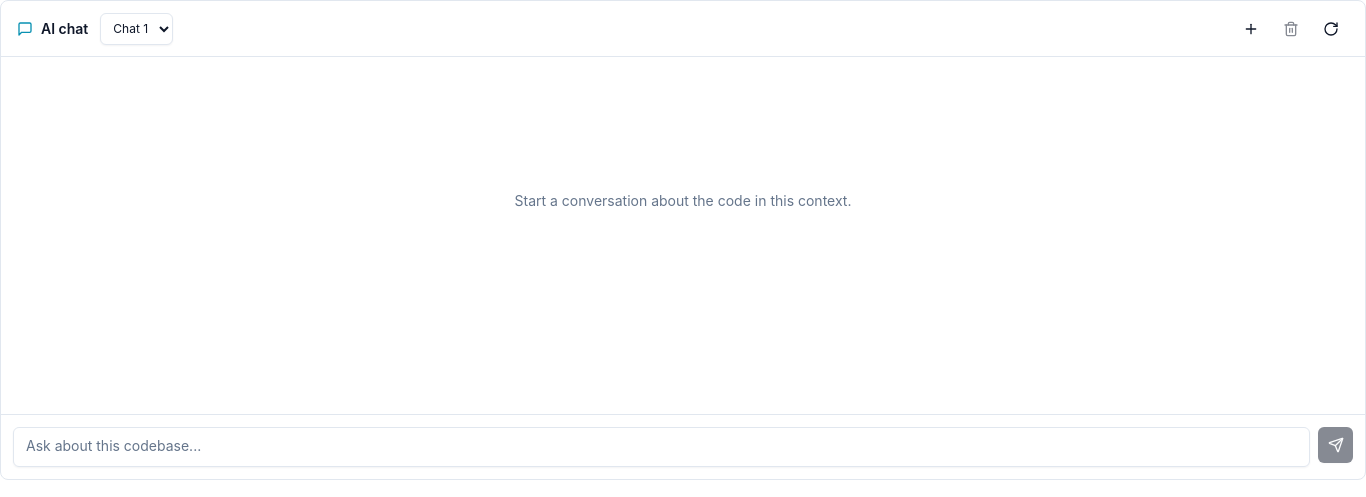
ChatPanel › optimistically sends repo messages and appends replies
expect the text "Start a conversation about the code in this context." is shown: met, box [514, 192, 851, 209]
Type "What is this?" into the text box with placeholder "Ask about this codebase..." at (662, 447), box [13, 427, 1310, 467]
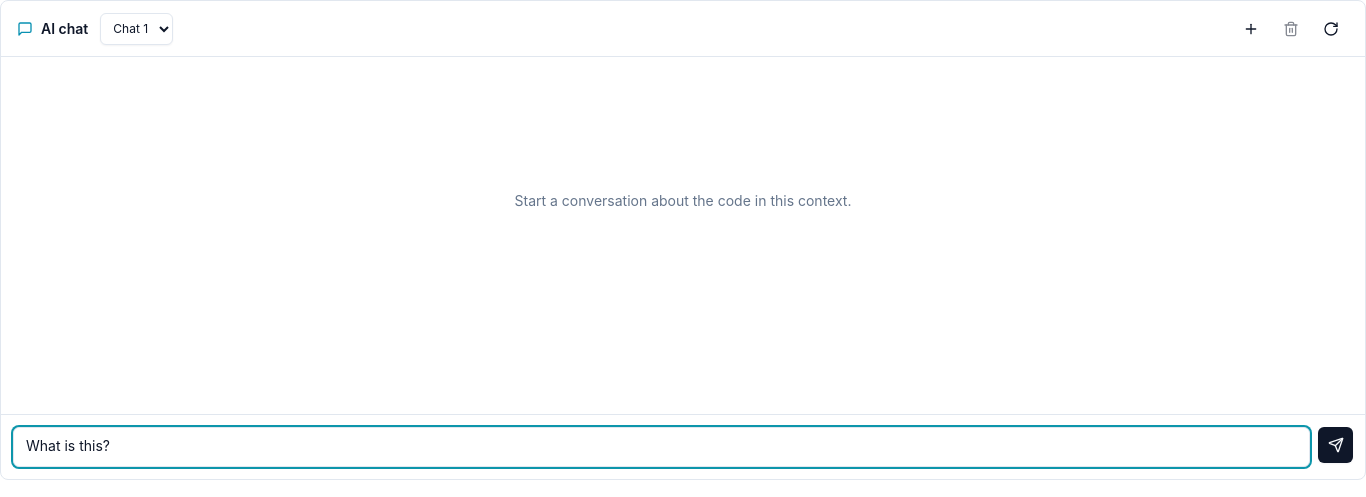
Click the button named "Send message" at (1336, 445), box [1318, 427, 1353, 463]
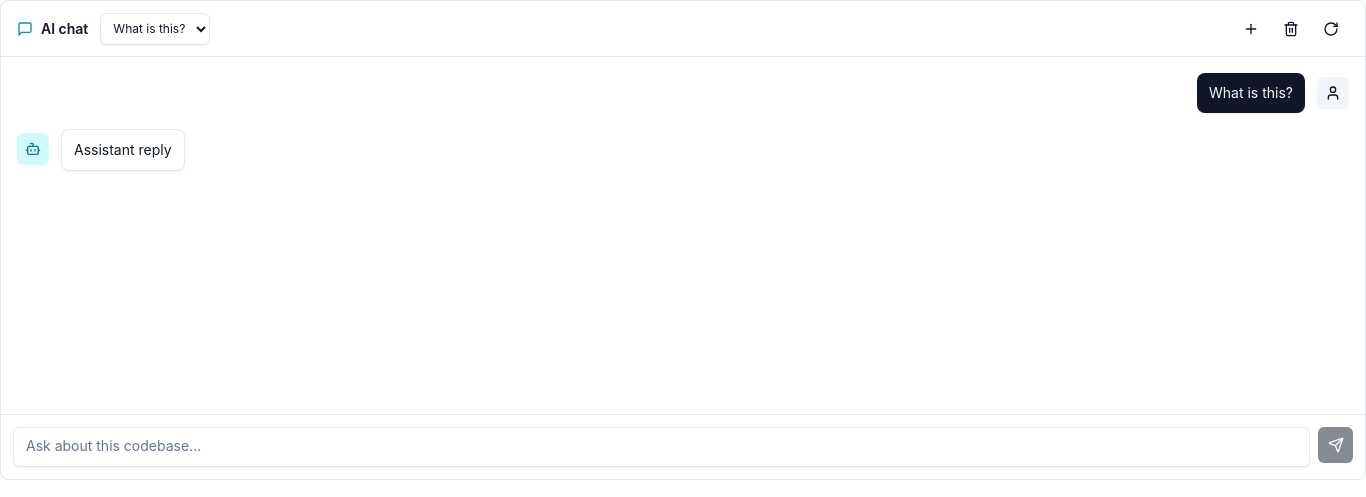
expect the text "Assistant reply" is shown: met, box [74, 138, 172, 162]
